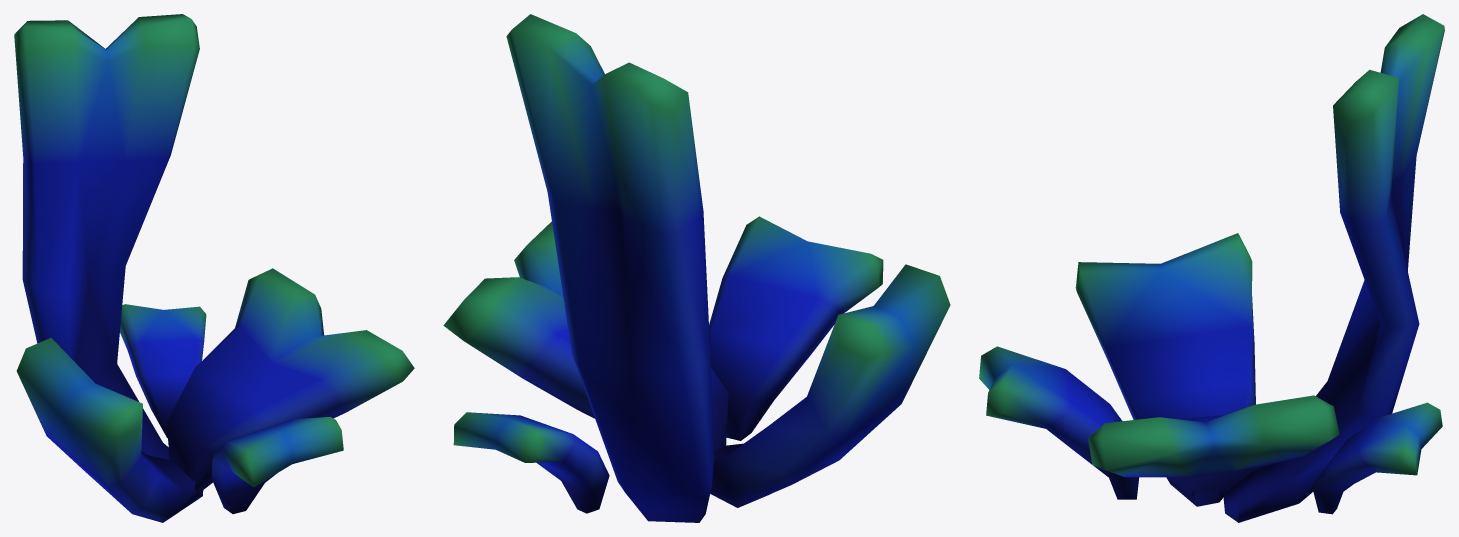
Rendered from Alien_Grass09.fbx.
3 views of the same model, side by side, from view 1: azimuth 30°, elevation 25°; view 2: azimuth 150°, elevation 25°; view 3: azimuth 270°, elevation 25° (orthographic). The views are drawn at different scales.
Parts seen in each view (by area): view 1: Alien_Grass09; view 2: Alien_Grass09; view 3: Alien_Grass09.
Part boxes in pixels (left/top/right/bottom): Alien_Grass09: left=14, top=14, right=414, bottom=522; Alien_Grass09: left=443, top=14, right=950, bottom=522; Alien_Grass09: left=979, top=14, right=1444, bottom=522.
Bounding box in the file's own units: 1324 × 1574 × 1435.
